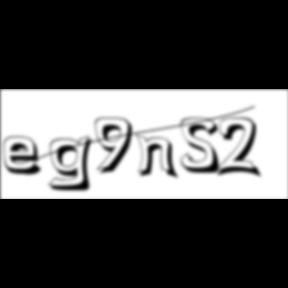2: (216, 117, 266, 181)
9: (94, 117, 140, 177)
S: (181, 117, 227, 176)
e: (4, 135, 50, 178)
g: (48, 134, 100, 194)
n: (136, 132, 182, 181)
